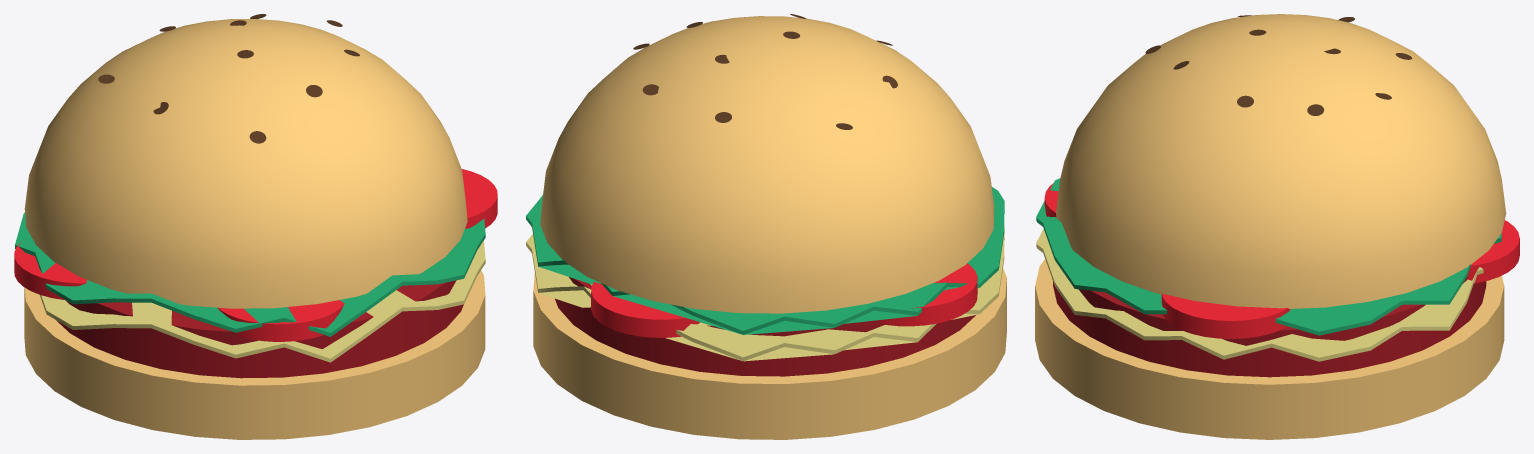
Rendered from hamburger.fbx.
3 views of the same model, side by side, from view 1: azimuth 30°, elevation 25°; view 2: azimuth 150°, elevation 25°; view 3: azimuth 270°, elevation 25° (orthographic). The views are drawn at different scales.
Visible parts, largest first — view 1: Sphere, Circle, Cylinder, Circle.005, Circle.017, Circle.003, Circle.004, Circle.002; view 2: Sphere, Circle, Cylinder, Circle.005, Circle.017, Circle.001, Circle.004; view 3: Sphere, Circle, Cylinder, Circle.017, Circle.005, Circle.002, Circle.001.
Boxes of the visible parts, x1,y1,x2,y2 form: Sphere: (24,19,467,308); Circle: (24,270,485,439); Cylinder: (56,280,463,378); Circle.005: (15,212,485,336); Circle.017: (40,240,485,362); Circle.003: (217,300,344,341); Circle.004: (14,241,86,300); Circle.002: (462,169,497,228); Sphere: (540,16,994,313); Circle: (533,268,1006,439); Cylinder: (555,277,975,376); Circle.005: (526,187,1004,334); Circle.017: (526,227,1004,361); Circle.001: (591,282,700,337); Circle.004: (879,263,977,326); Sphere: (1056,14,1506,308); Circle: (1035,259,1504,439); Cylinder: (1053,276,1486,377); Circle.017: (1036,229,1483,361); Circle.005: (1036,178,1501,335); Circle.002: (1161,293,1290,338); Circle.001: (1467,220,1519,283).
Bounding box in the file's own units: 213 × 142 × 207.
